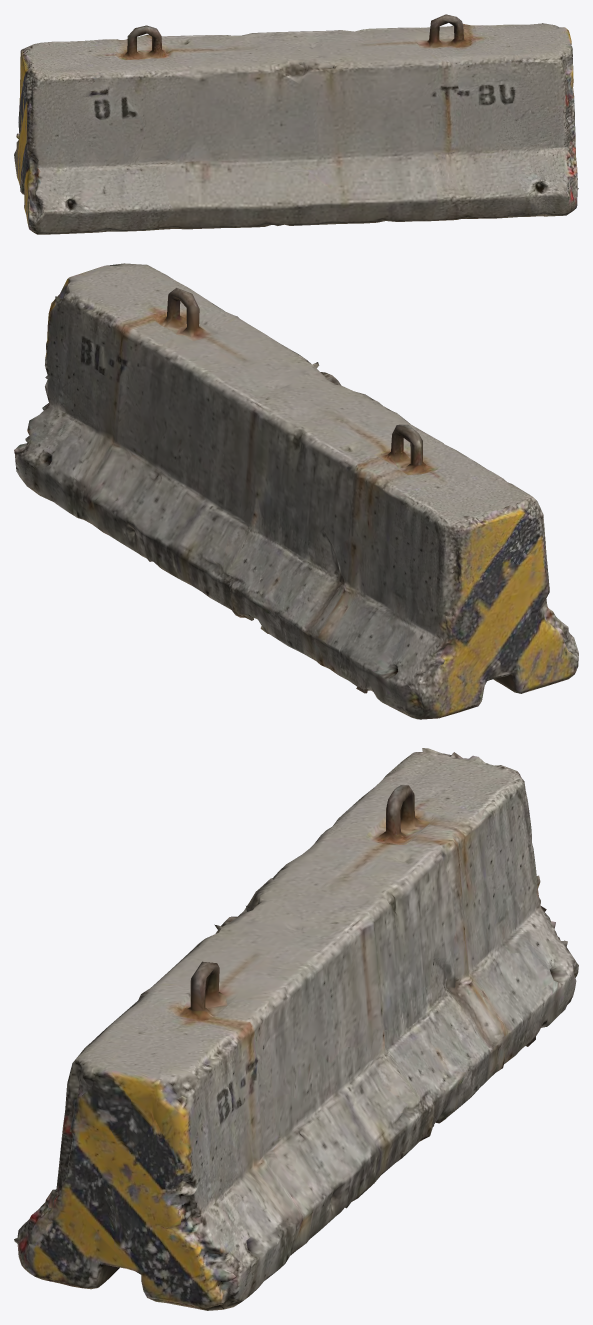
File: jersey_barrier.glb
The picture shows the model from 3 angles, top to bottom: view 1: azimuth 30°, elevation 25°; view 2: azimuth 150°, elevation 25°; view 3: azimuth 270°, elevation 25°; orthographic projection. The views are drawn at different scales.
Parts seen in each view (by area): view 1: tripo_node_8d35484b-f4f9-404d-acdc-47097a13c735; view 2: tripo_node_8d35484b-f4f9-404d-acdc-47097a13c735; view 3: tripo_node_8d35484b-f4f9-404d-acdc-47097a13c735.
Part boxes in pixels (x1,y1,x2,y2): tripo_node_8d35484b-f4f9-404d-acdc-47097a13c735: (14, 14, 578, 234); tripo_node_8d35484b-f4f9-404d-acdc-47097a13c735: (14, 263, 578, 719); tripo_node_8d35484b-f4f9-404d-acdc-47097a13c735: (14, 748, 578, 1310).
Size of the model in its own units: 0.9816 by 0.3346 by 0.6511.
1 material, 1 textured.
